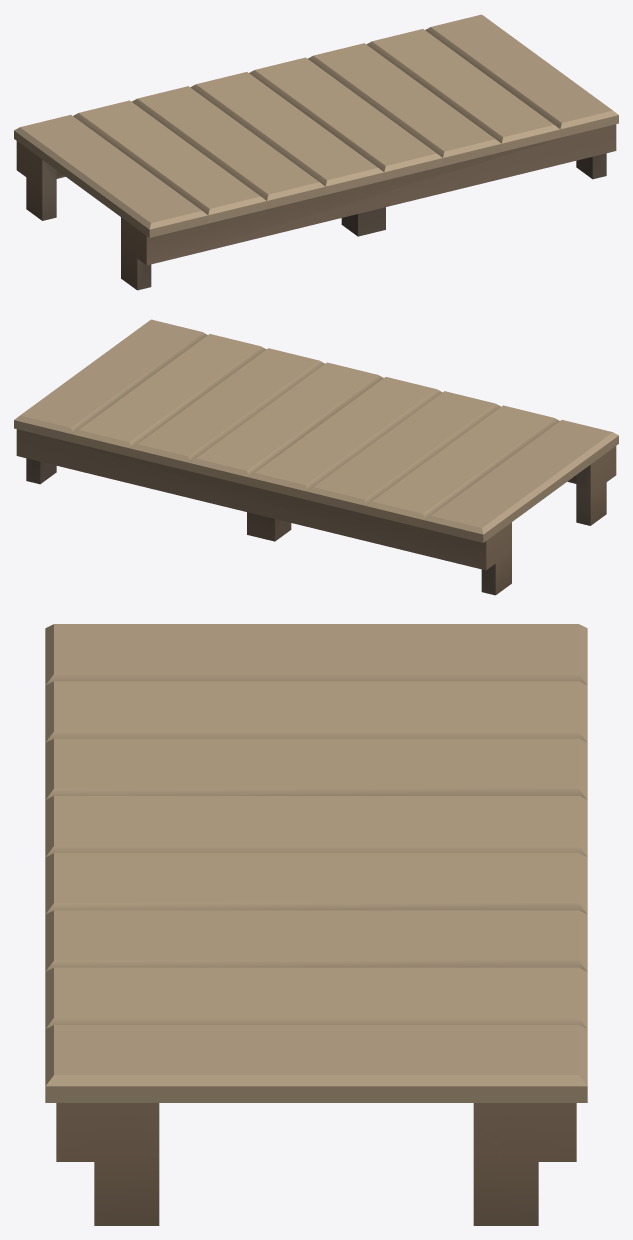
Rendered from boardwalk.glb.
3 views of the same model, one above another, from view 1: azimuth 30°, elevation 25°; view 2: azimuth 150°, elevation 25°; view 3: azimuth 270°, elevation 25° (orthographic). The views are drawn at different scales.
Parts seen in each view (by area): view 1: boardwalk.001; view 2: boardwalk.001; view 3: boardwalk.001.
Boxes of the visible parts, box(x1,y1,x2,y2) form: boardwalk.001: box(14, 14, 618, 290); boardwalk.001: box(14, 319, 618, 595); boardwalk.001: box(45, 624, 587, 1225).
Size of the model in its own units: 2 by 0.3 by 1.
